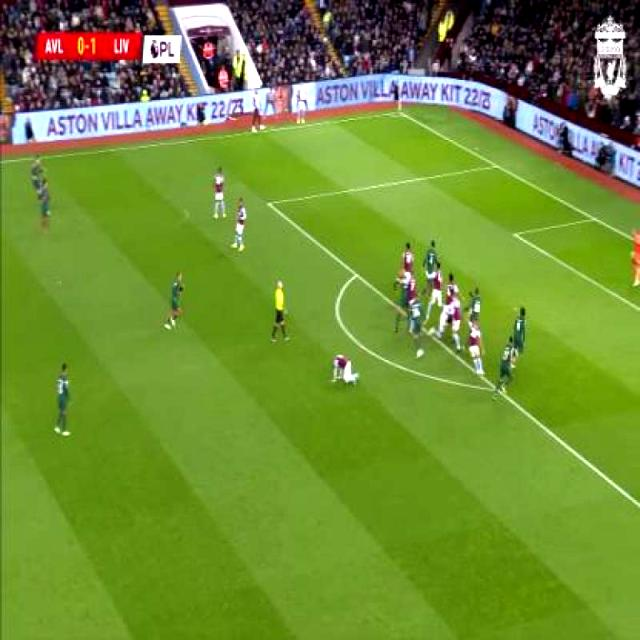bigarea_top_inner: (264, 195, 278, 212)
bigarea_top_outter: (491, 160, 502, 172)
bottom_arc_area_intersection: (489, 380, 501, 395)
corner: (391, 109, 406, 119)
smallarea_top_inner: (509, 228, 523, 242)
smallarea_top_outter: (590, 212, 600, 226)
top_arc_area_intersection: (351, 266, 363, 284)
